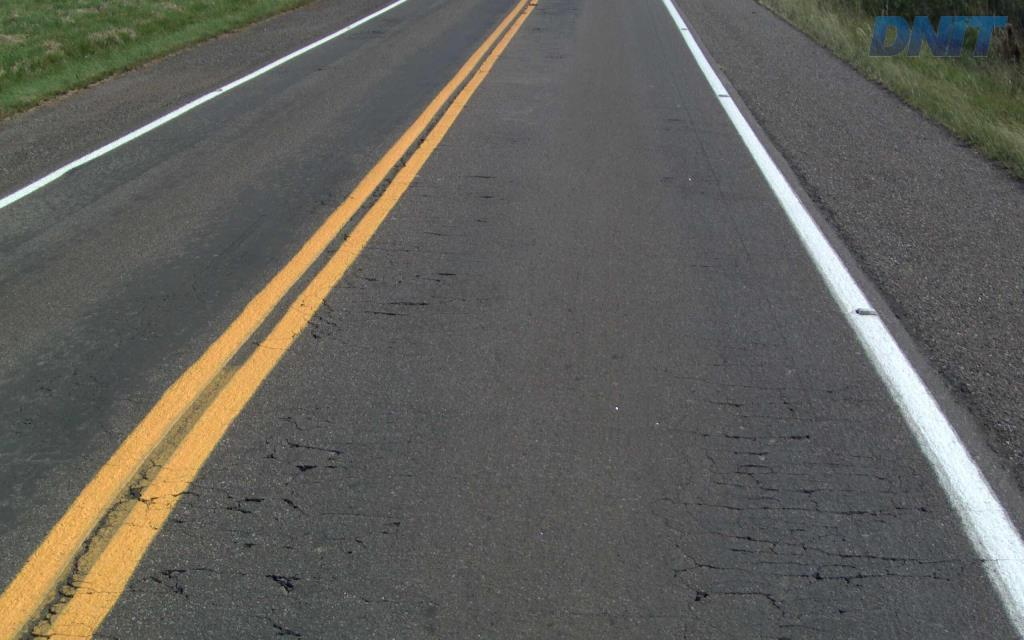crack: (149, 564, 186, 597)
